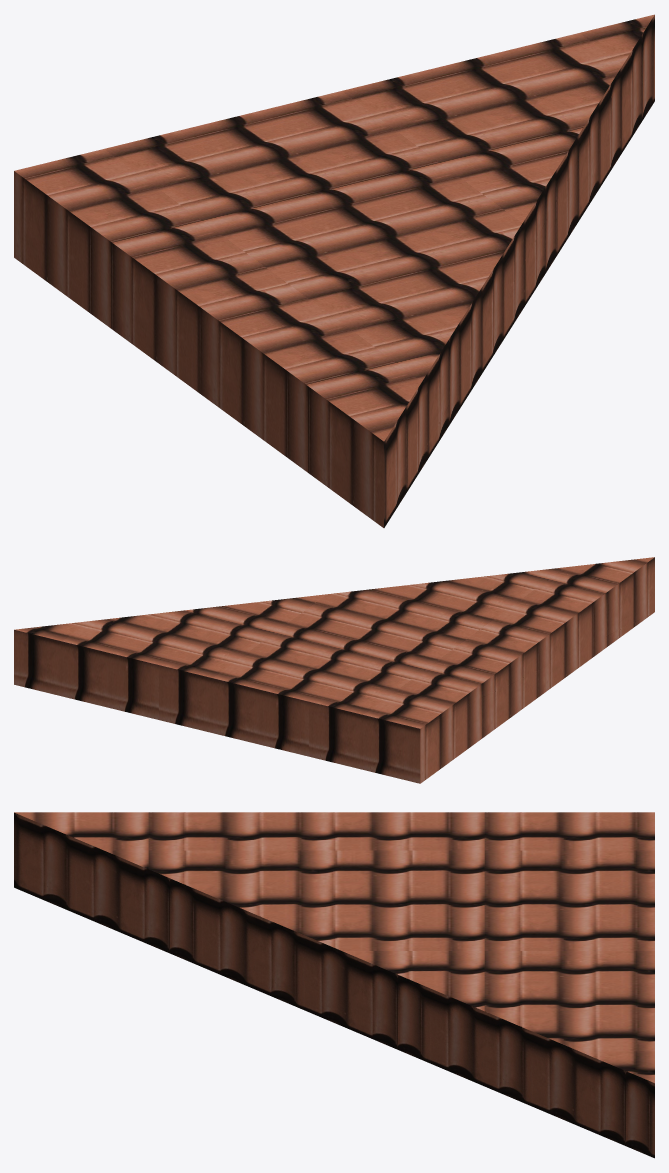
File: kit_Roof center_triangle.glb
3 views of the same model, one above another, from view 1: azimuth 30°, elevation 25°; view 2: azimuth 150°, elevation 25°; view 3: azimuth 270°, elevation 25° (orthographic). The views are drawn at different scales.
Visible parts, largest first — view 1: Cube.002; view 2: Cube.002; view 3: Cube.002.
Boxes of the visible parts, x1,y1,x2,y2 form: Cube.002: (14, 14, 654, 527); Cube.002: (14, 557, 654, 783); Cube.002: (14, 812, 654, 1158).
Size of the model in its own units: 1 by 0.1293 by 1.
Materials: 1 (1 with a texture image).
